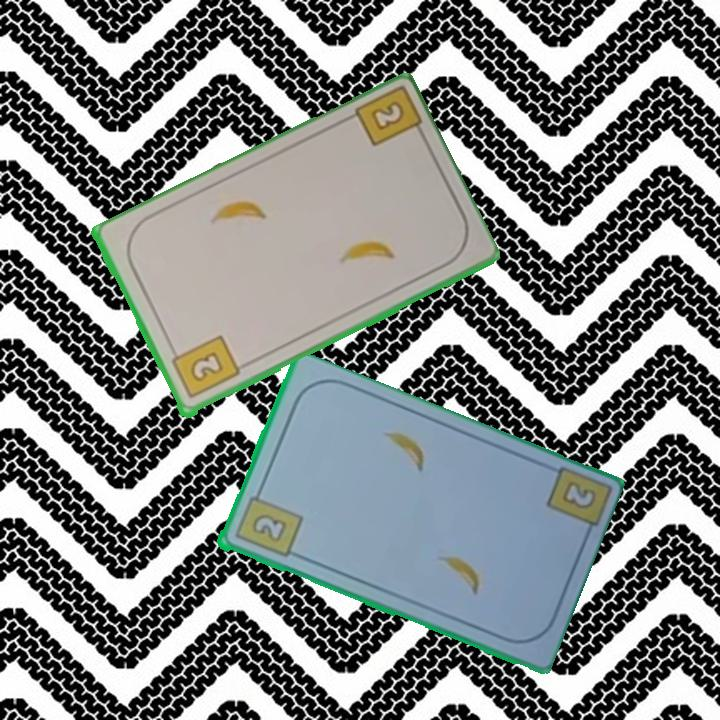2b: (231, 485, 304, 561), (166, 332, 242, 402), (349, 86, 427, 150), (558, 477, 599, 513)
